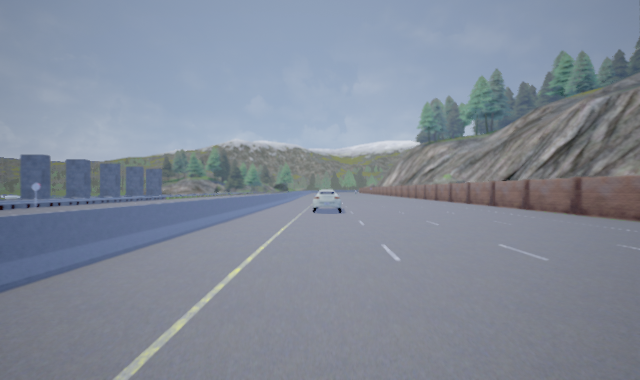vehicle: (311, 189, 342, 212)
